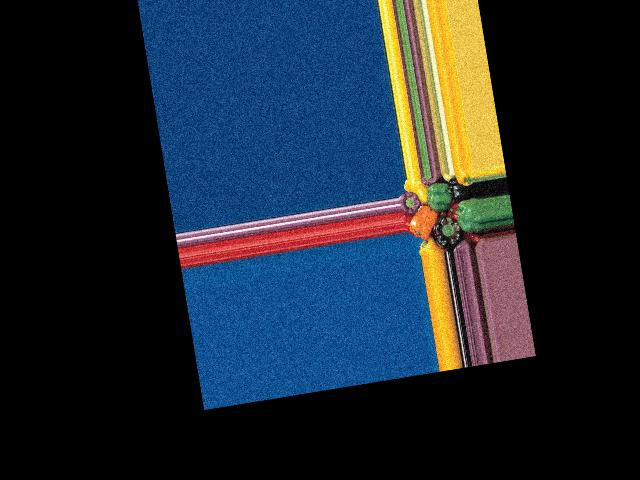bell_pepper: (457, 198, 484, 235)
